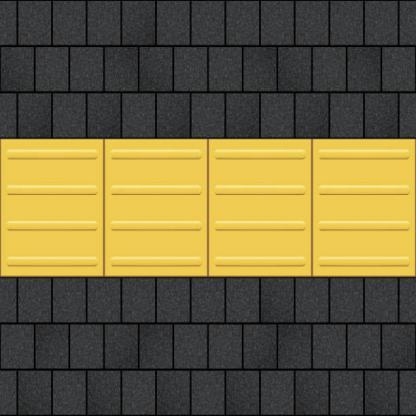podotacti: (3, 138, 413, 276)
